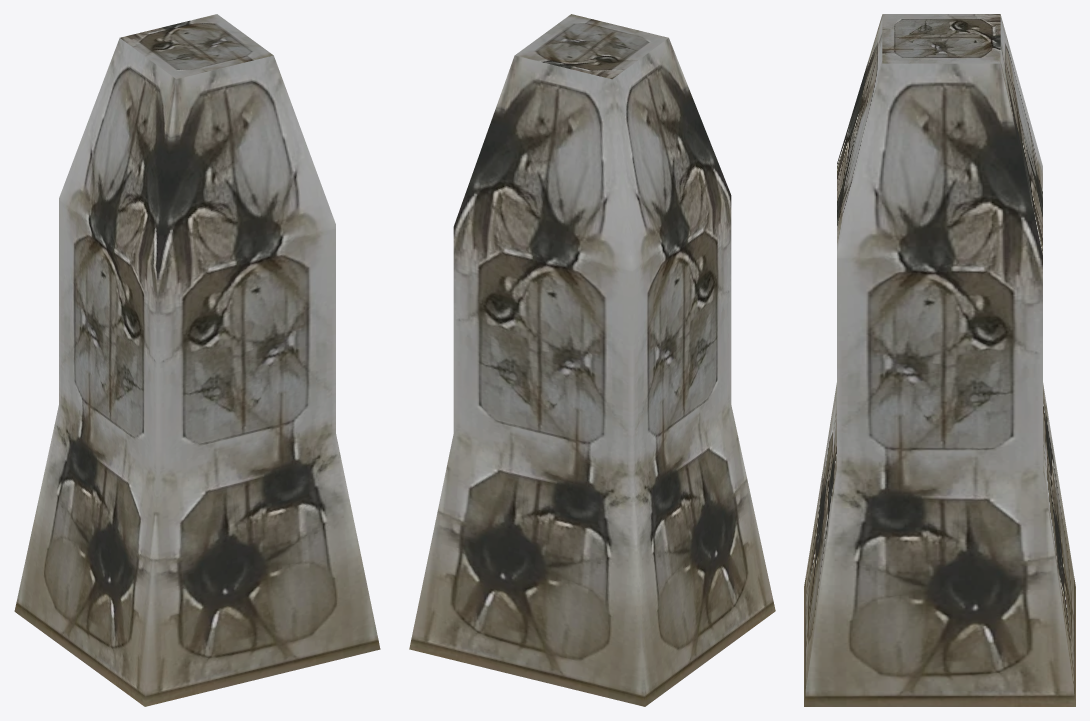
Rendered from l_heavypost_dam_hdtex.glb.
The picture shows the model from 3 angles, left to right: view 1: azimuth 30°, elevation 25°; view 2: azimuth 150°, elevation 25°; view 3: azimuth 270°, elevation 25°; orthographic projection. The views are drawn at different scales.
Visible parts, largest first — view 1: L_HeavyWallDAM; view 2: L_HeavyWallDAM; view 3: L_HeavyWallDAM.
Part boxes in pixels (<box>): L_HeavyWallDAM: <box>14,14,380,706</box>; L_HeavyWallDAM: <box>409,14,775,706</box>; L_HeavyWallDAM: <box>804,14,1075,706</box>.
Bounding box in the file's own units: 7.52 × 17.81 × 7.21.
1 material, 1 textured.
